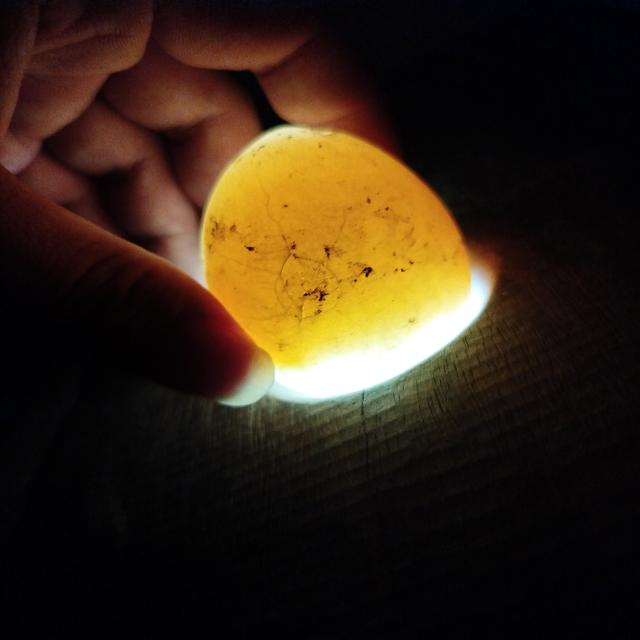Rachadura: (276, 252, 339, 318)
